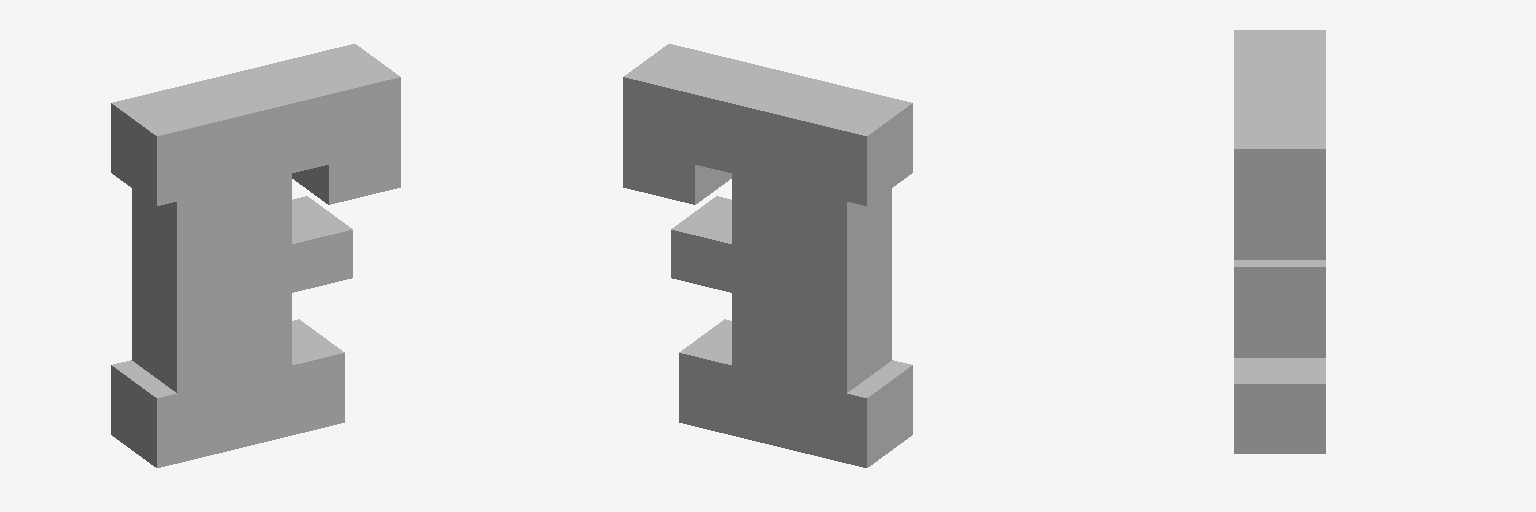
3 views of the same model, side by side, from view 1: azimuth 30°, elevation 25°; view 2: azimuth 150°, elevation 25°; view 3: azimuth 270°, elevation 25° (orthographic).
Visible parts, largest first — view 1: text: ABCDEFGHIJKLMNOPQRSTUVWXYZ[number redacted]; view 2: text: ABCDEFGHIJKLMNOPQRSTUVWXYZ[number redacted]; view 3: text: ABCDEFGHIJKLMNOPQRSTUVWXYZ[number redacted].
Boxes of the visible parts, box(x1,y1,x2,y2) form: text: ABCDEFGHIJKLMNOPQRSTUVWXYZ[number redacted]: box(111, 44, 400, 467); text: ABCDEFGHIJKLMNOPQRSTUVWXYZ[number redacted]: box(623, 44, 912, 467); text: ABCDEFGHIJKLMNOPQRSTUVWXYZ[number redacted]: box(1234, 30, 1325, 453).
Size of the model in its own units: 76.86 by 100 by 25.